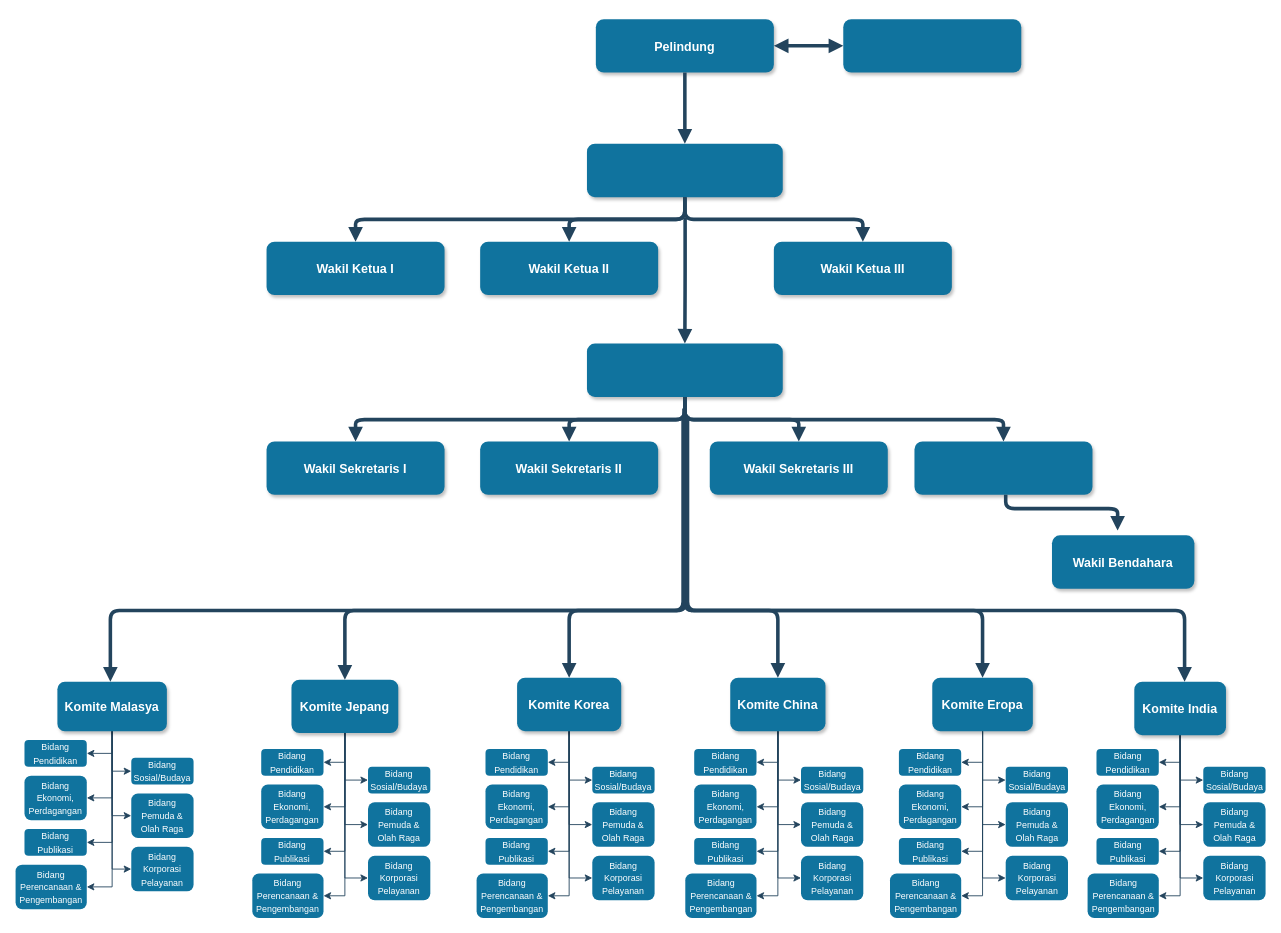
The diagram is 1281 pixels wide and 933 high, and some of its shapes have lost their labels. Each missing label, with the centre of its shape:
"Bendahara" goes at (1003,469).
"Ketua Umum" goes at (685,171).
"Penasehat" goes at (932,46).
"Sekretaris Umum" goes at (685,371).
